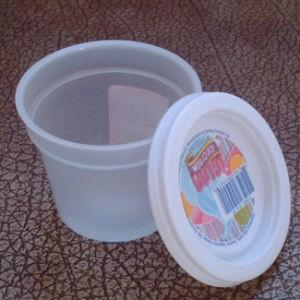plastic: (16, 40, 289, 286)
